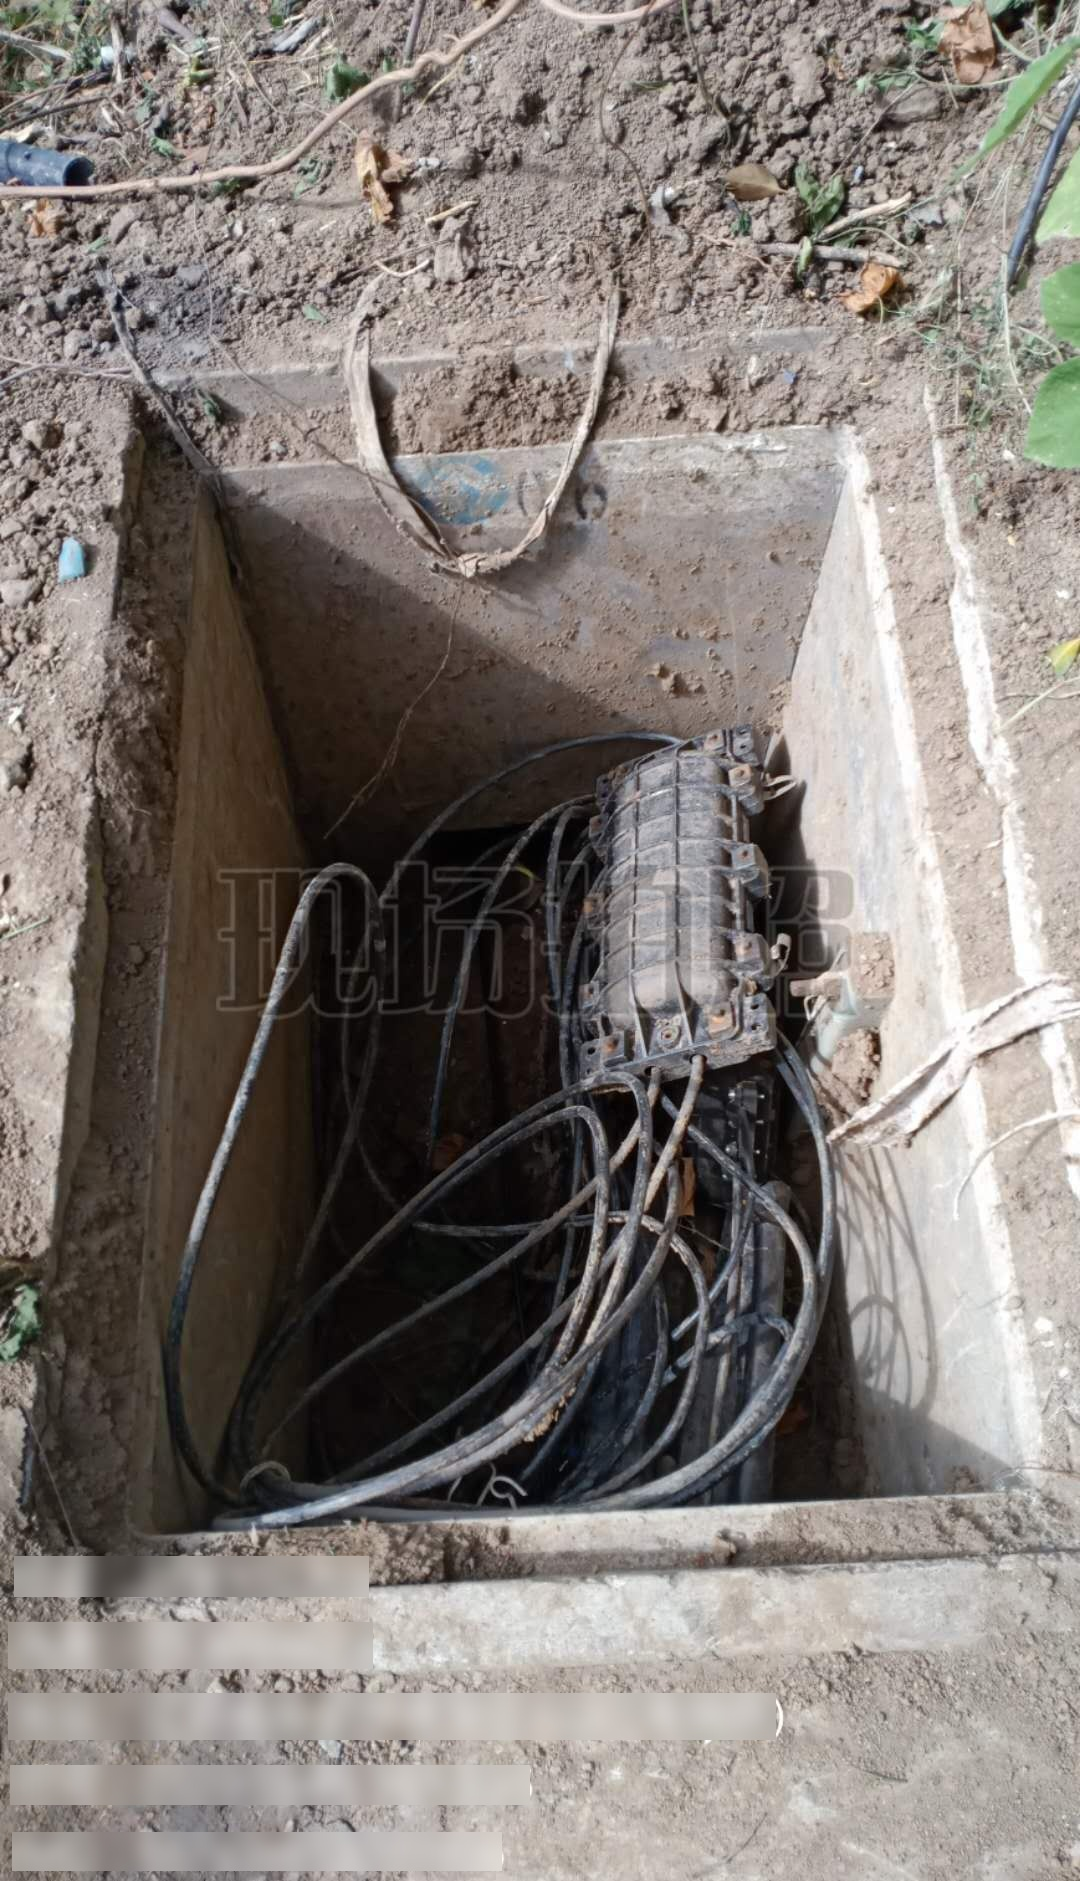well: (0, 373, 1064, 1614)
